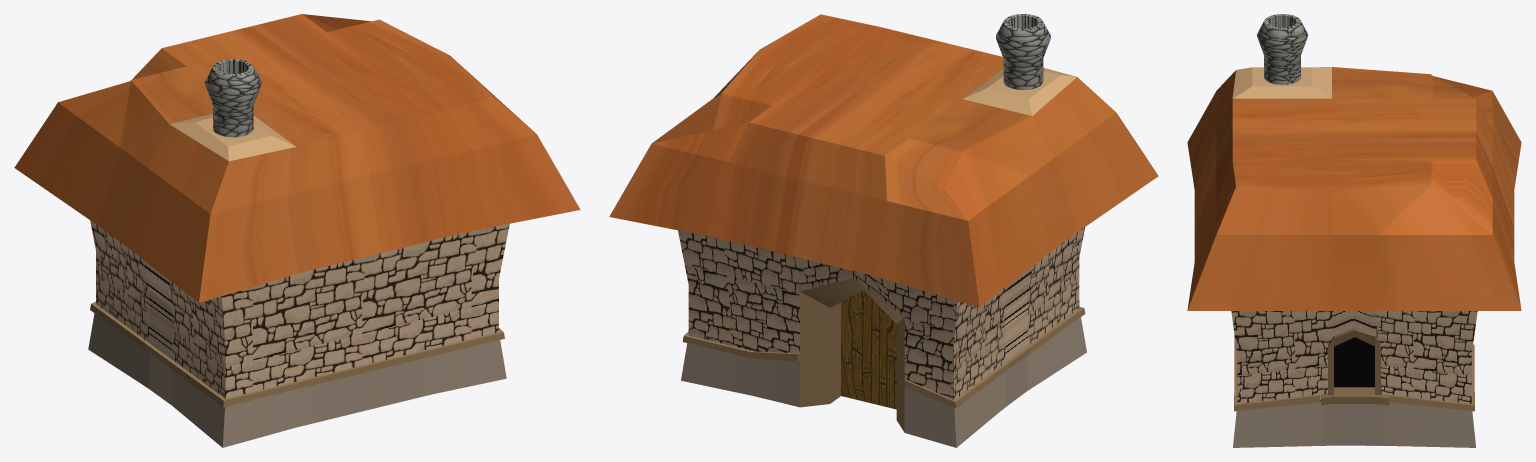
File: maison.fbx
3 renders of one model, left to right at view 1: azimuth 30°, elevation 25°; view 2: azimuth 150°, elevation 25°; view 3: azimuth 270°, elevation 25°, orthographic. The views are drawn at different scales.
Parts seen in each view (by area): view 1: pCube1, pCylinder1; view 2: pCube1, pCylinder1; view 3: pCube1, pCylinder1.
Part boxes in pixels (x1,y1,x2,y2): pCube1: (14,14,580,447); pCylinder1: (205,59,261,137); pCube1: (609,14,1158,447); pCylinder1: (996,14,1050,89); pCube1: (1187,67,1521,447); pCylinder1: (1256,14,1308,84).
Size of the model in its own units: 21.53 by 18.92 by 18.04.
